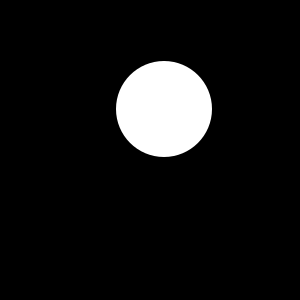rectangle: (116, 61, 212, 157)
